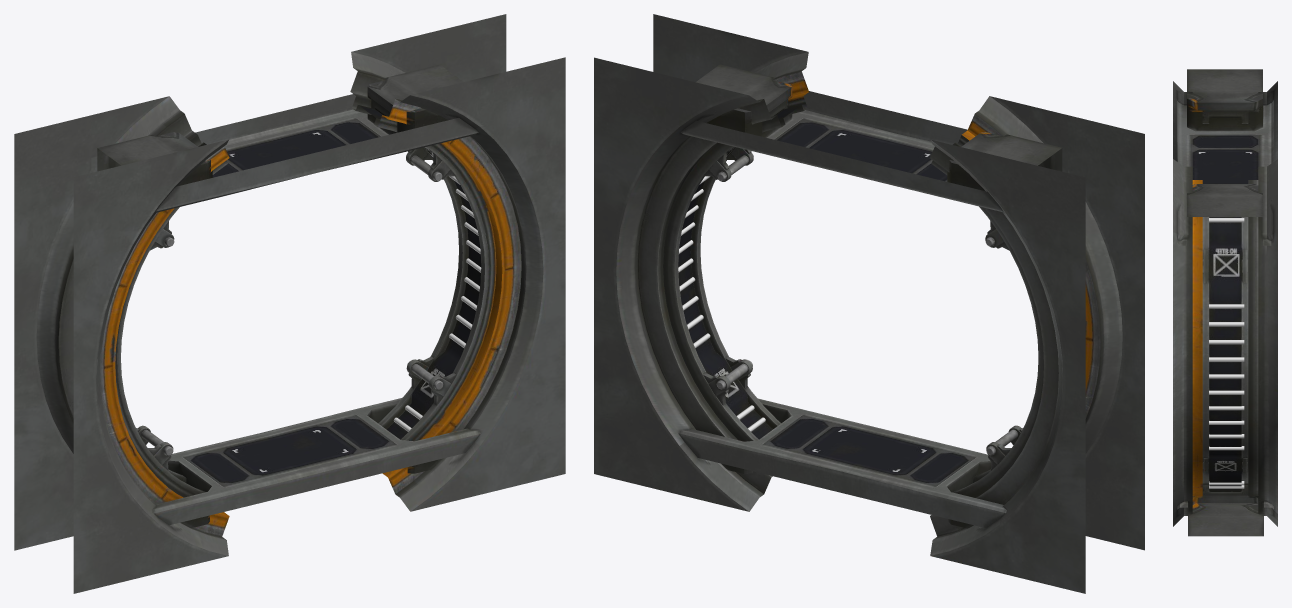
Rendered from corridor_door.gltf.
The picture shows the model from 3 angles, left to right: view 1: azimuth 30°, elevation 25°; view 2: azimuth 150°, elevation 25°; view 3: azimuth 270°, elevation 25°; orthographic projection. The views are drawn at different scales.
Parts seen in each view (by area): view 1: geo_arch_low2, geo_arch_posts2; view 2: geo_arch_low2, geo_arch_posts2; view 3: geo_arch_low2, geo_arch_posts2.
Boxes of the visible parts, <box> form: geo_arch_low2: <box>14,14,565,593</box>; geo_arch_posts2: <box>393,176,481,431</box>; geo_arch_low2: <box>594,14,1144,593</box>; geo_arch_posts2: <box>678,176,765,431</box>; geo_arch_low2: <box>1173,69,1277,536</box>; geo_arch_posts2: <box>1209,218,1244,488</box>.
Size of the model in its own units: 10.95 by 8.86 by 2.29.
Materials: 2 (1 with a texture image).
